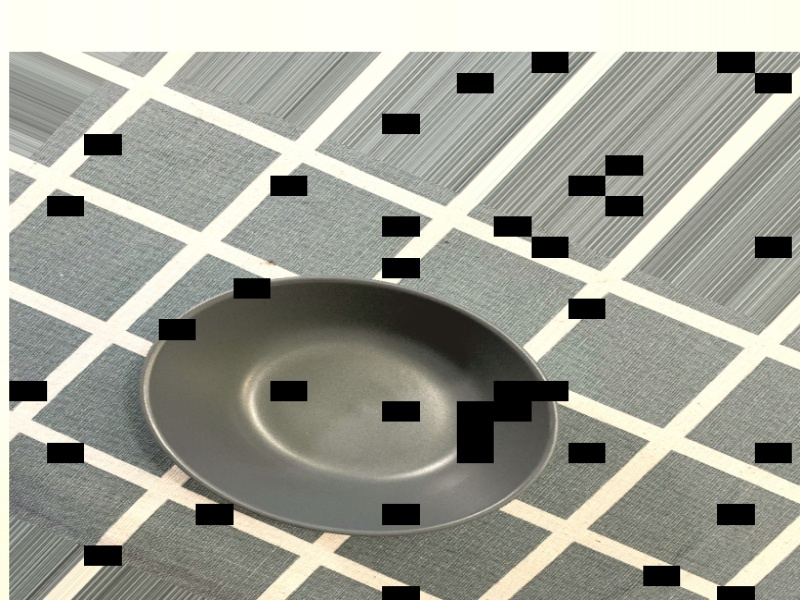bowl_big: (33, 210, 646, 599)
